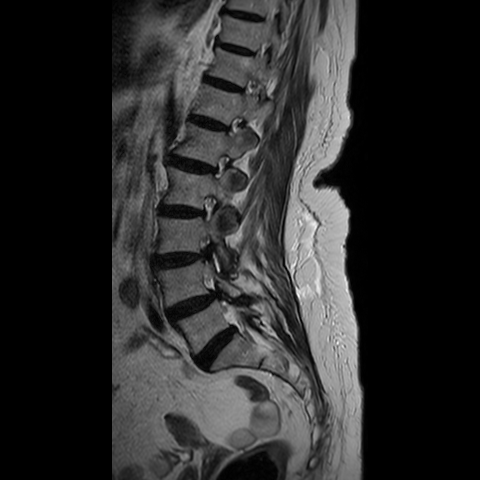RFS0: (190, 187, 227, 228), (204, 145, 238, 185)
